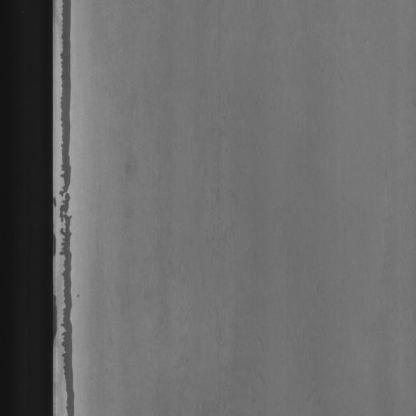oil_spot: (57, 0, 94, 410)
